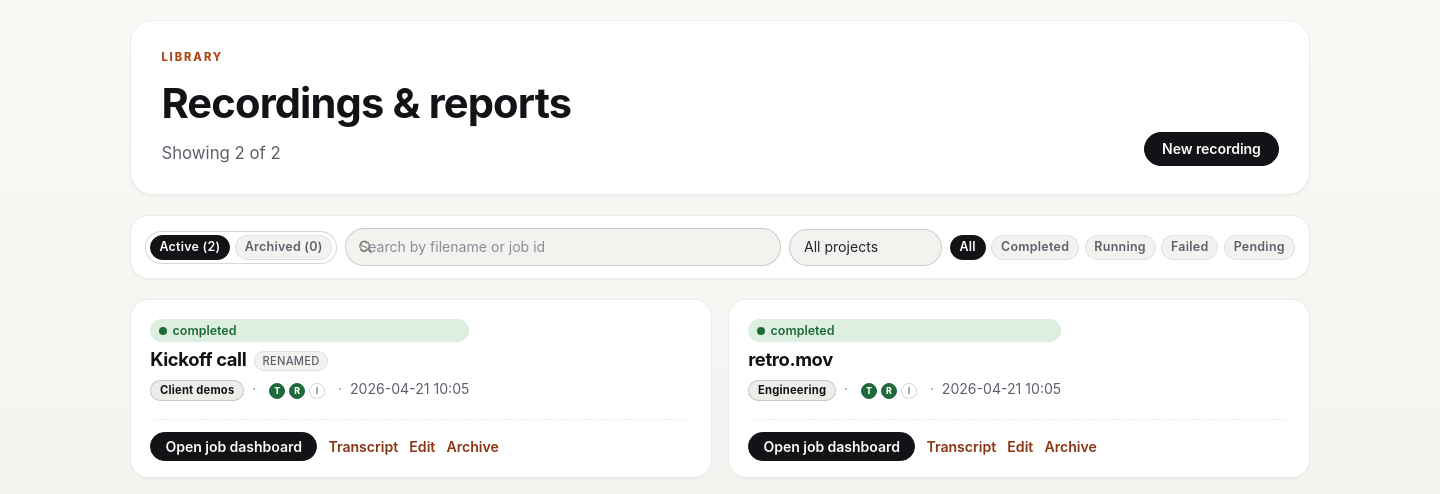
Test: JobsIndexPage library filters › filters by project and posts archive toggles via /api/jobs/<id>/metadata
Expected: the heading "Kickoff call" is shown, [150,348,246,370]
Expected: the heading "retro.mov" is shown, [748,348,833,370]
Select "Engineering (1)" in the dropdown named "project" at [866, 247], box [789,229,942,266]
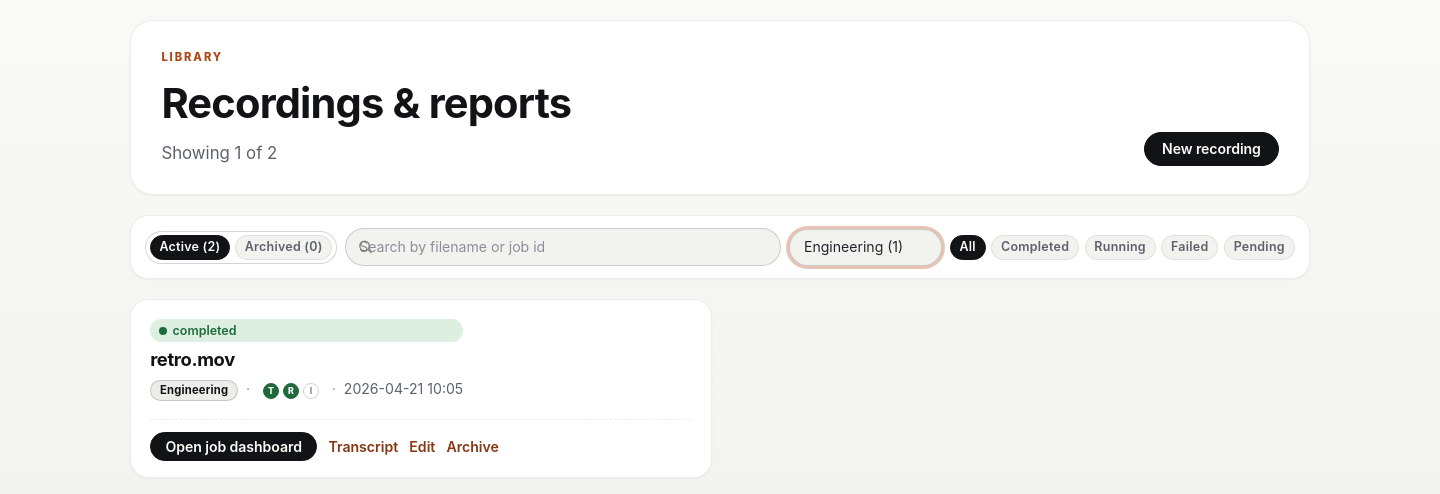
Expected: the heading "retro.mov" is shown, [150,348,235,370]
Expected: the heading "Kickoff call" is gone
Reset filter and archive job_a via its card.
Select "All projects" in the dropdown named "project" at [866, 247], box [789,229,942,266]
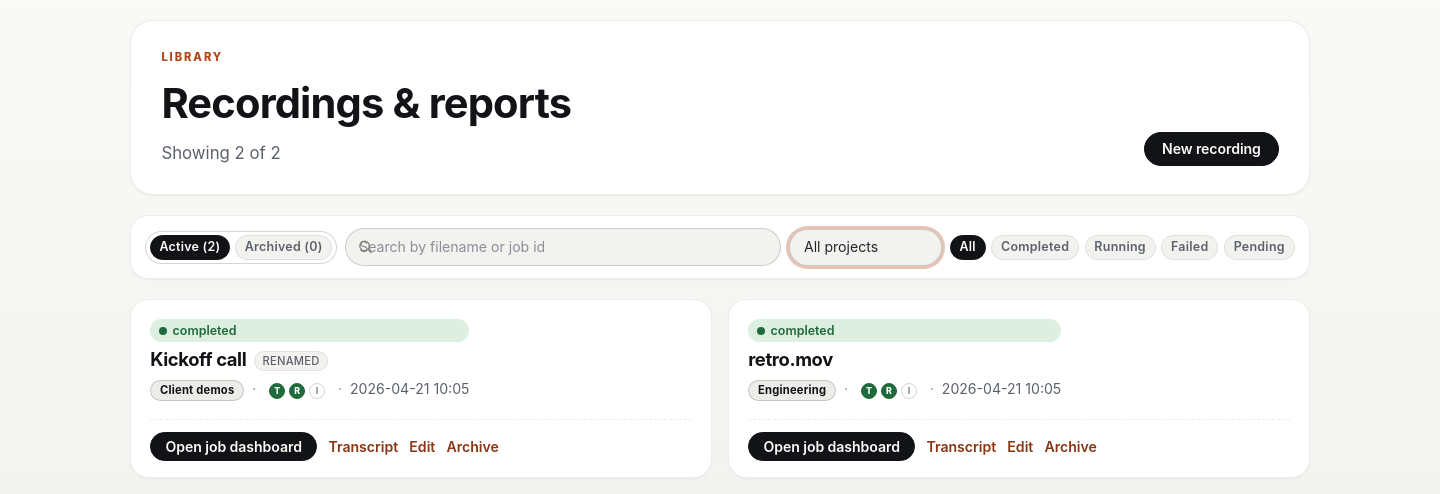
Expected: the heading "Kickoff call" is shown, [150,348,246,370]
Click the button "Archive" below "Client demos" at [473, 447], box [446,436,499,458]
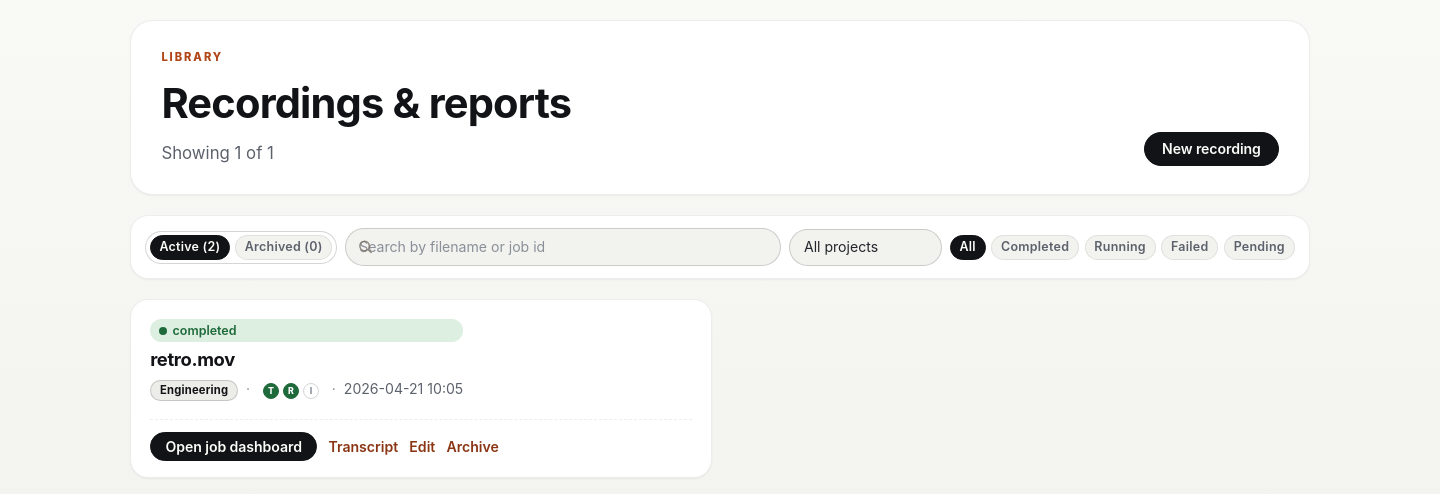
Expected: the heading "Kickoff call" is gone
